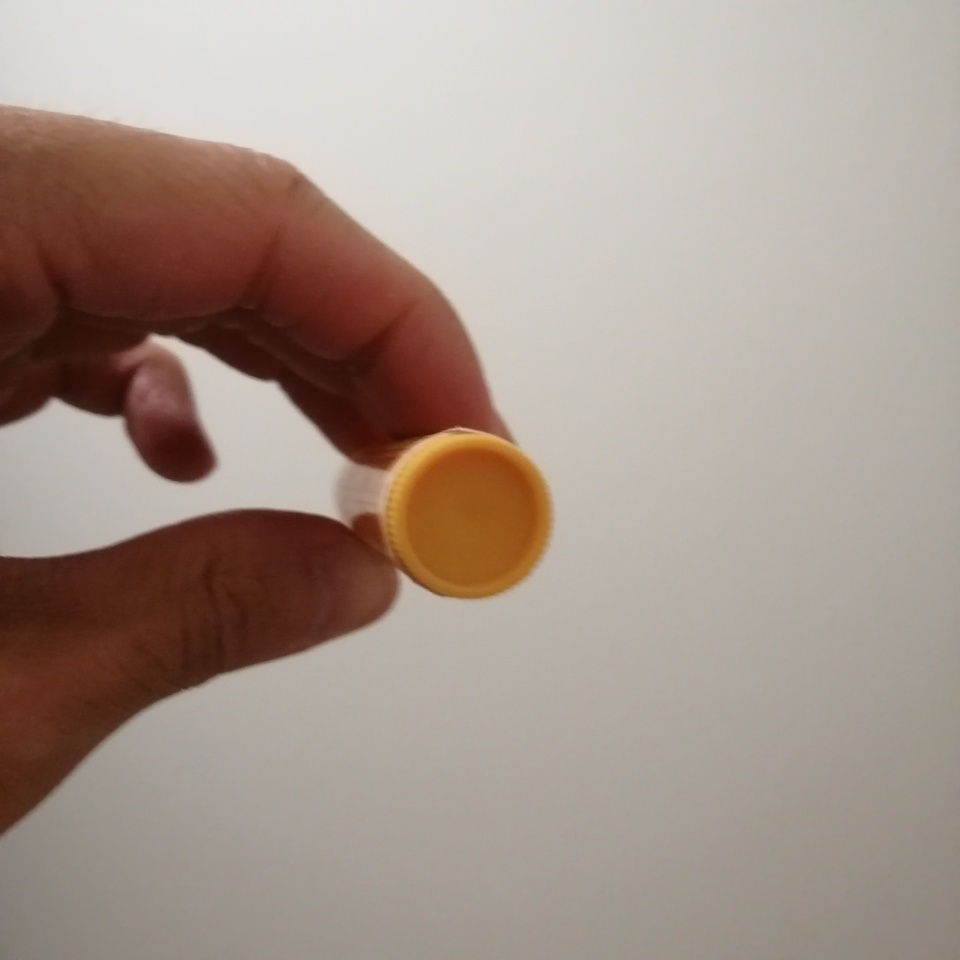chapstick: (331, 425, 556, 602)
